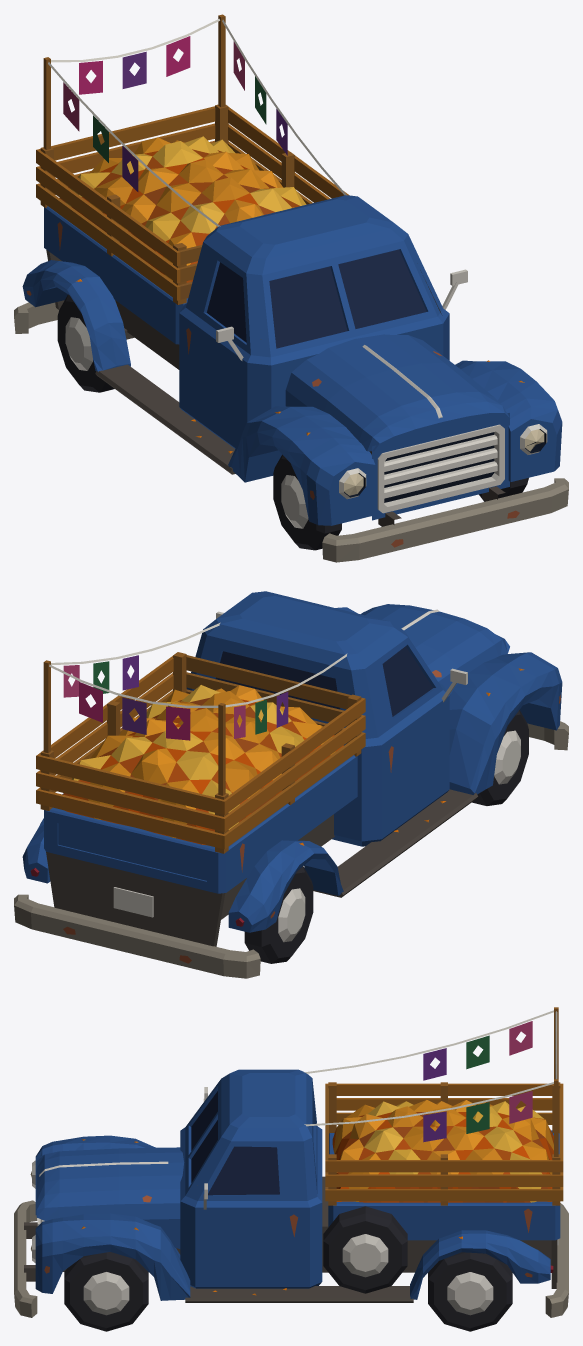
Rendered from marigold-pickup-f4b6f9.glb.
3 renders of one model, top to bottom at view 1: azimuth 30°, elevation 25°; view 2: azimuth 150°, elevation 25°; view 3: azimuth 270°, elevation 25°, orthographic. The views are drawn at different scales.
Parts seen in each view (by area): view 1: marigold-pickup-f4b6f9; view 2: marigold-pickup-f4b6f9; view 3: marigold-pickup-f4b6f9.
Boxes of the visible parts, x1,y1,x2,y2 form: marigold-pickup-f4b6f9: (14, 14, 568, 562); marigold-pickup-f4b6f9: (14, 591, 568, 978); marigold-pickup-f4b6f9: (14, 1007, 568, 1331).
Size of the model in its own units: 2 by 2.2 by 4.5.
